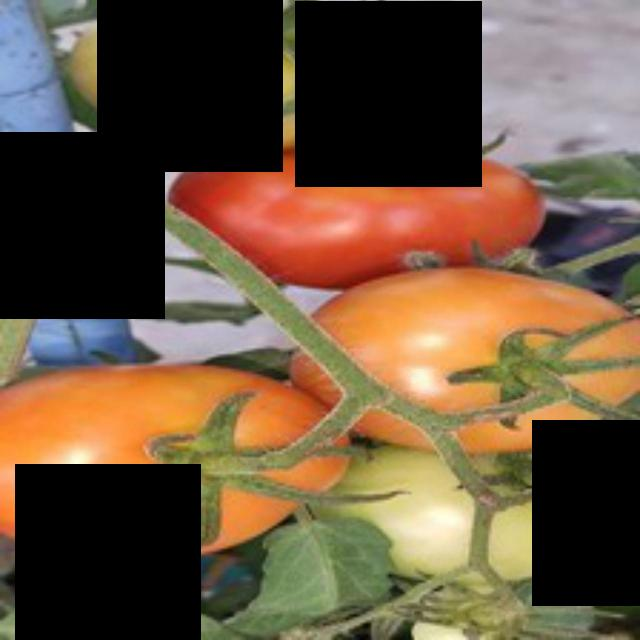tomato: (0, 367, 364, 571)
